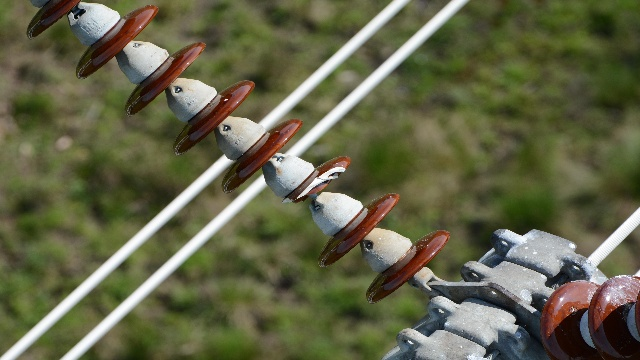broken_local: (279, 162, 348, 206)
insulator_unspecified: (25, 1, 451, 305), (539, 273, 639, 359)
